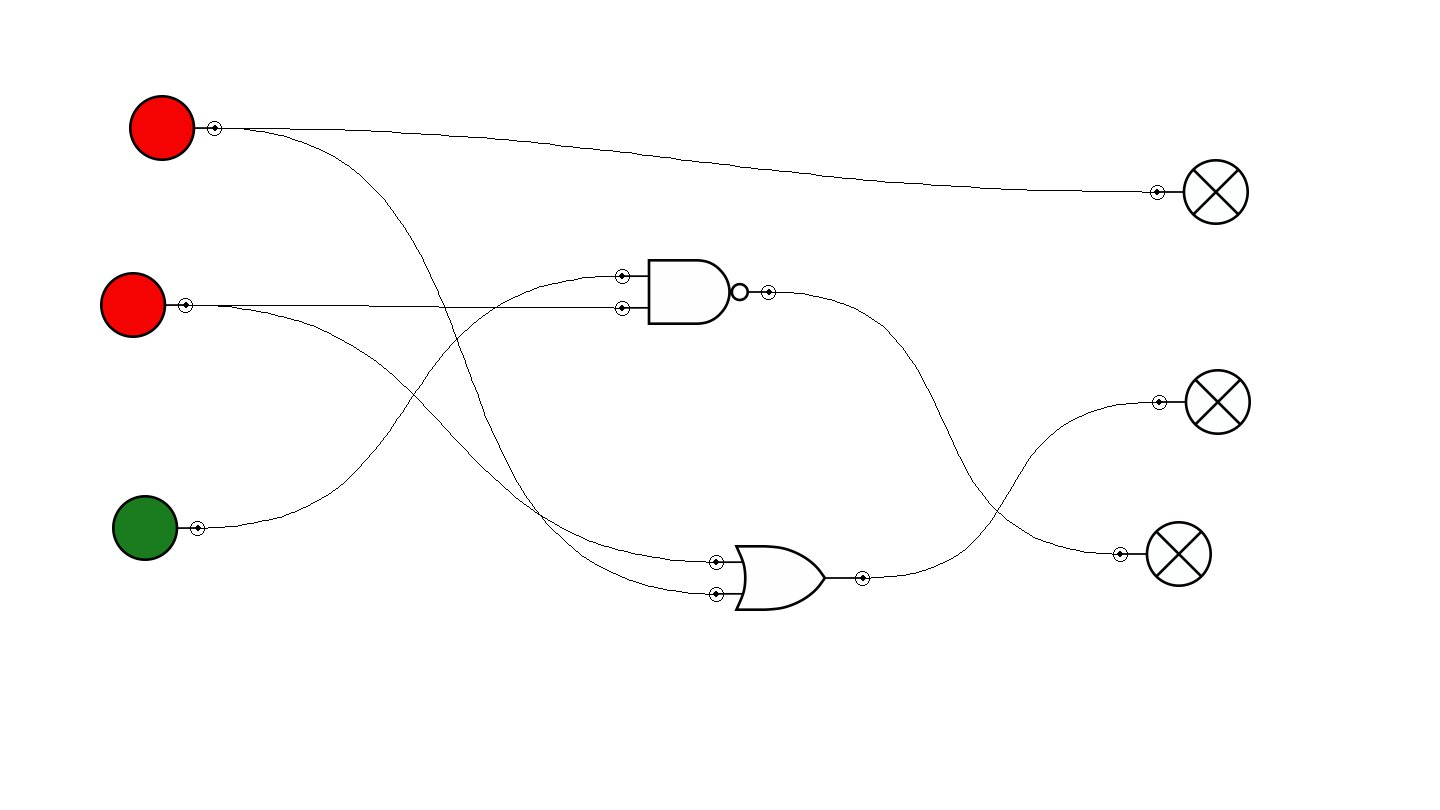bulb: (1152, 369, 1251, 435), (1113, 521, 1212, 587), (1150, 159, 1249, 225)
nand: (615, 259, 776, 325)
or: (709, 545, 870, 611)
switch_False: (100, 272, 193, 338), (129, 95, 222, 161)
switch_True: (112, 495, 205, 561)
